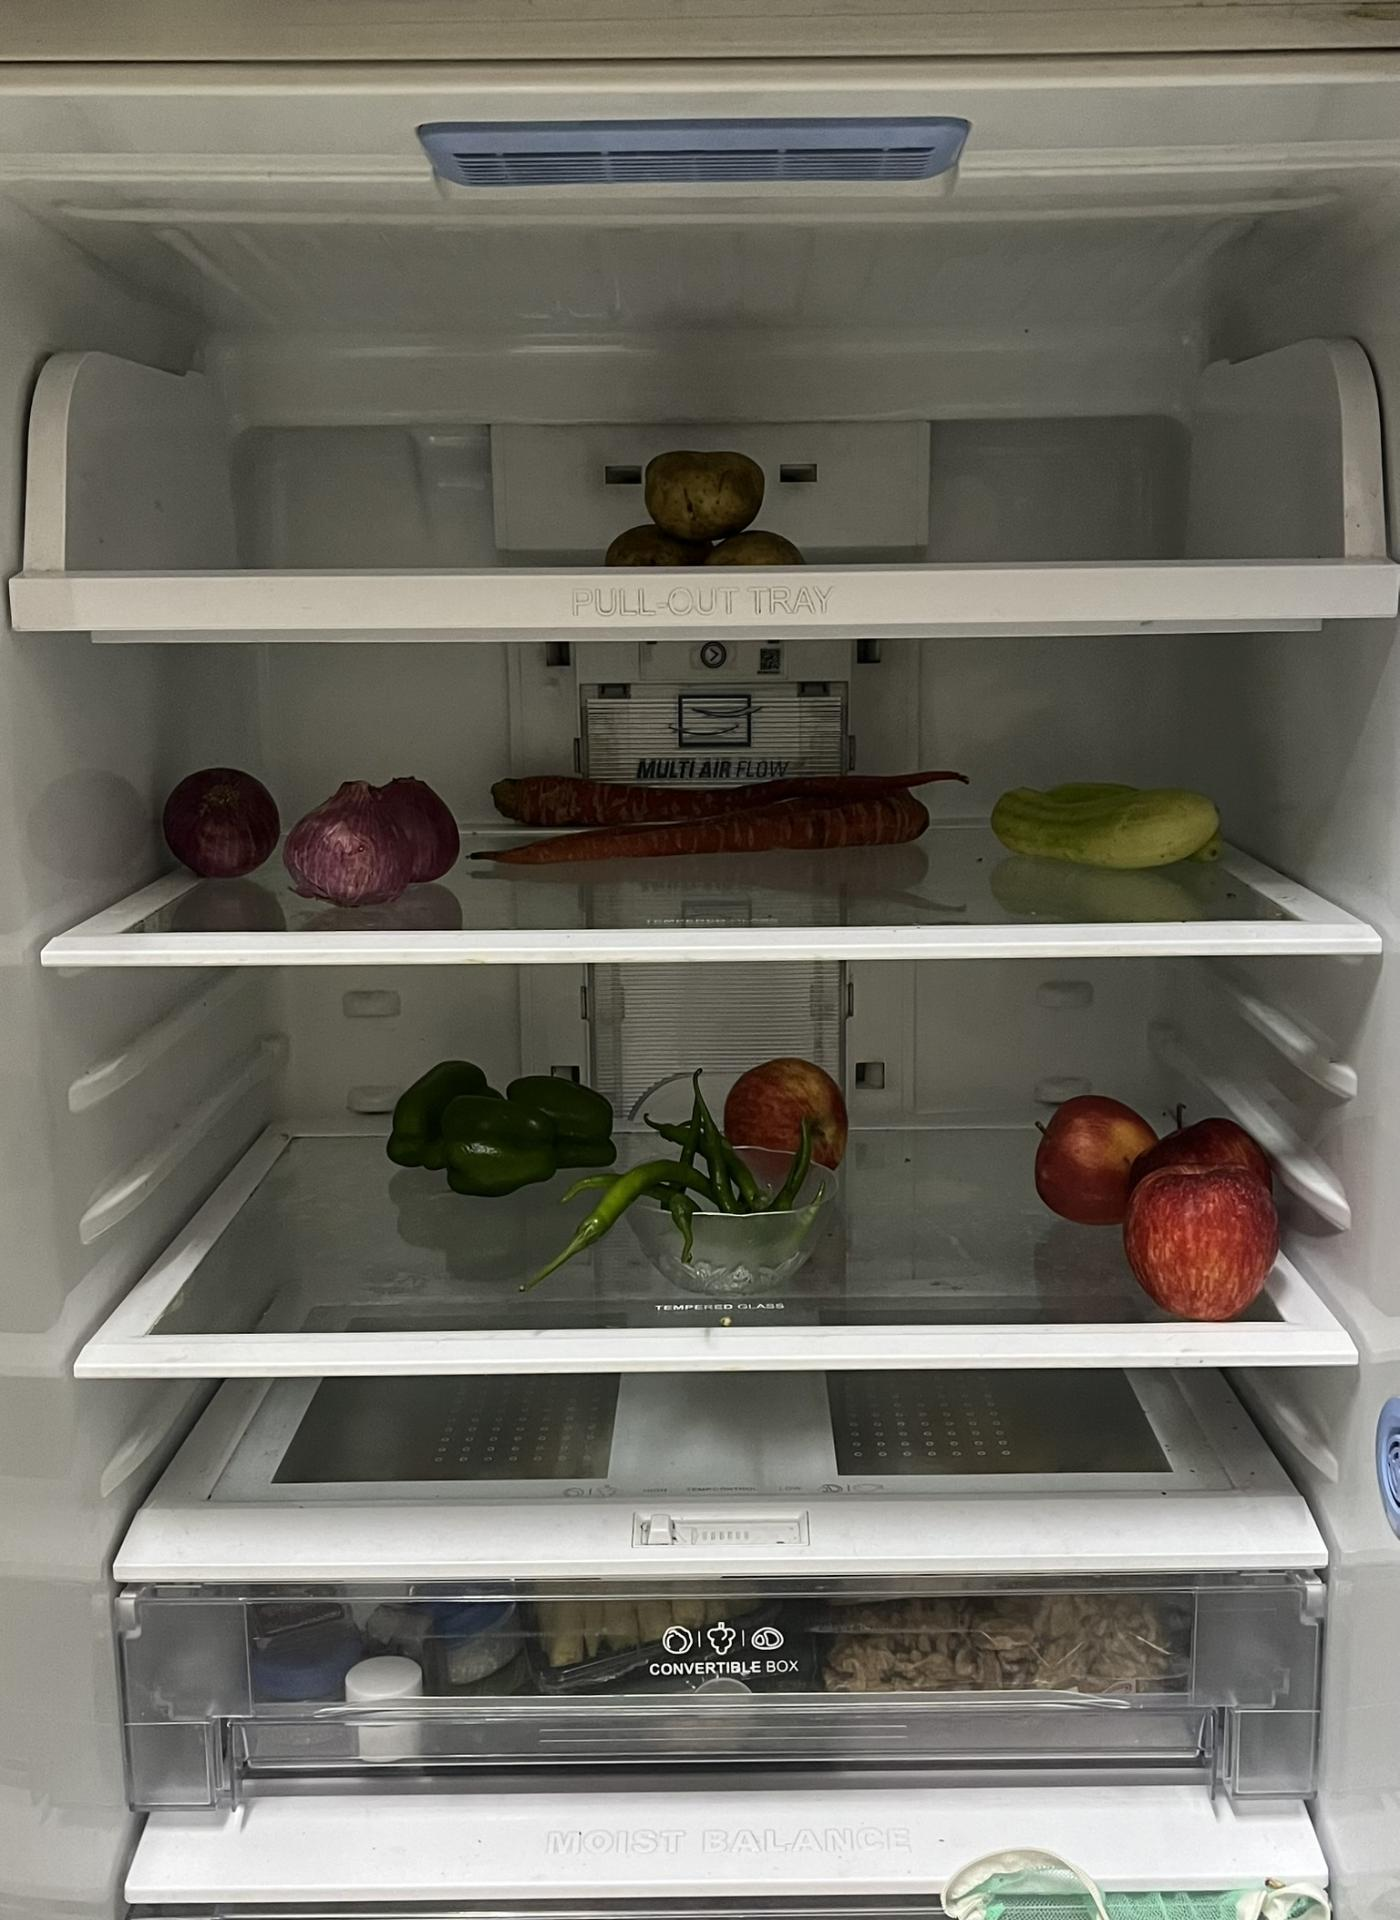apple: (1035, 1079, 1278, 1315), (732, 1057, 853, 1172)
capsicum: (379, 1060, 616, 1188)
carrots: (499, 759, 969, 860)
chillies: (526, 1079, 824, 1309)
cucumber: (991, 786, 1230, 871)
milk: (1130, 1871, 1376, 1920)
onion: (165, 769, 449, 896)
potato: (599, 440, 808, 566)
